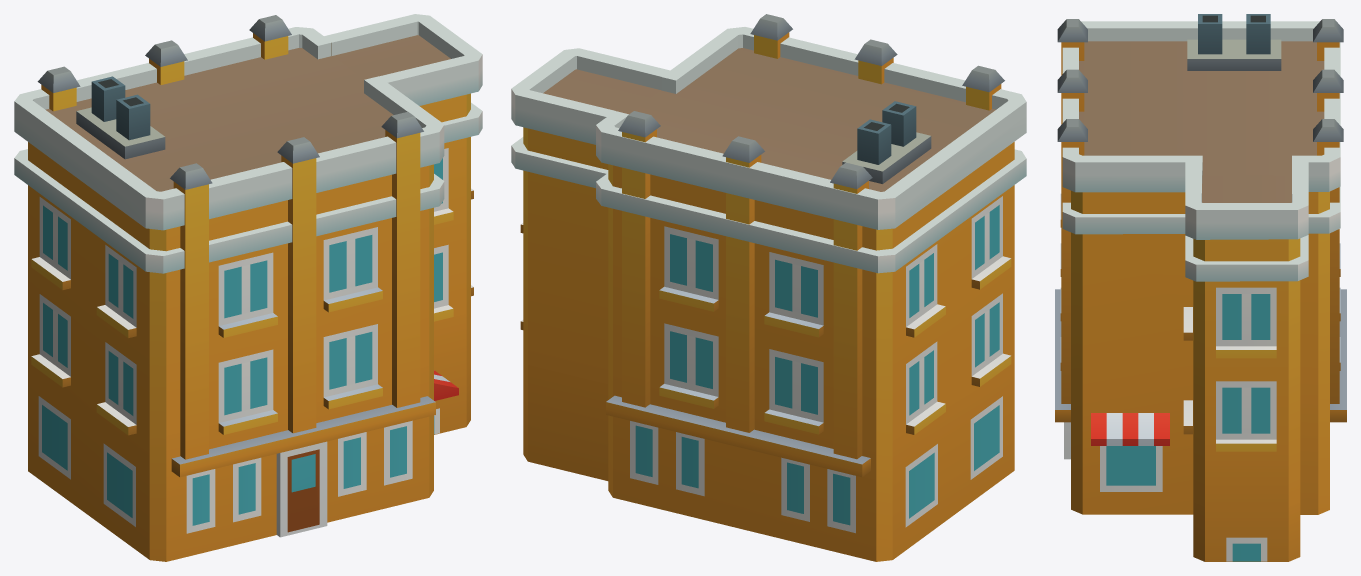
The model's file is Building_cartoon_7.fbx.
3 renders of one model, left to right at view 1: azimuth 30°, elevation 25°; view 2: azimuth 150°, elevation 25°; view 3: azimuth 270°, elevation 25°, orthographic. The views are drawn at different scales.
Parts seen in each view (by area): view 1: Building_cartoon_7; view 2: Building_cartoon_7; view 3: Building_cartoon_7.
Boxes of the visible parts, bbox=[...] form: Building_cartoon_7: bbox=[14, 14, 482, 561]; Building_cartoon_7: bbox=[511, 14, 1026, 561]; Building_cartoon_7: bbox=[1055, 14, 1346, 561].
Bounding box in the file's own units: 1258 × 1190 × 817.
